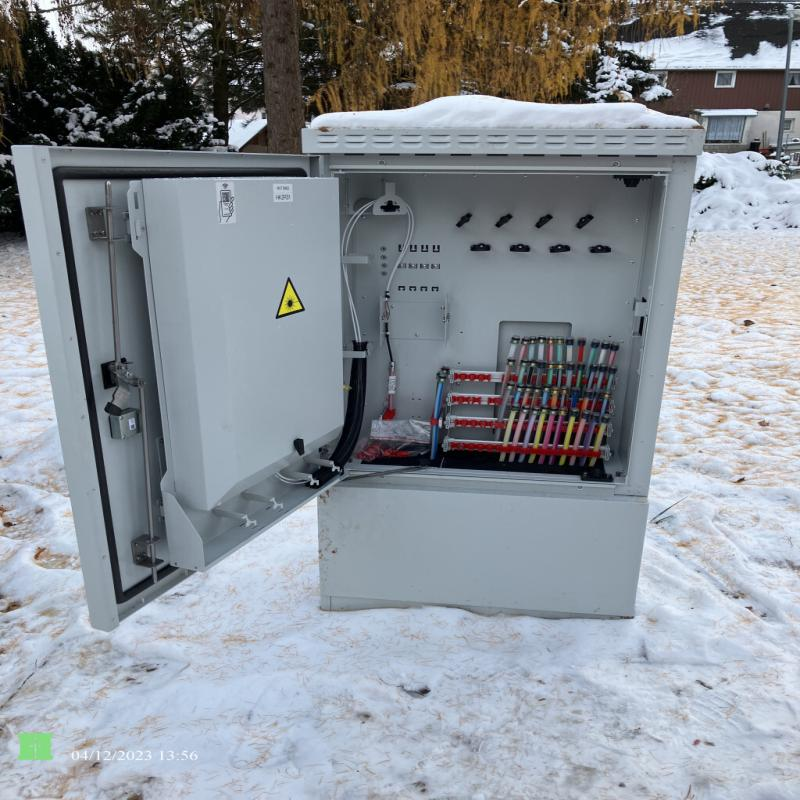NT-Gehause: (18, 127, 701, 633)
